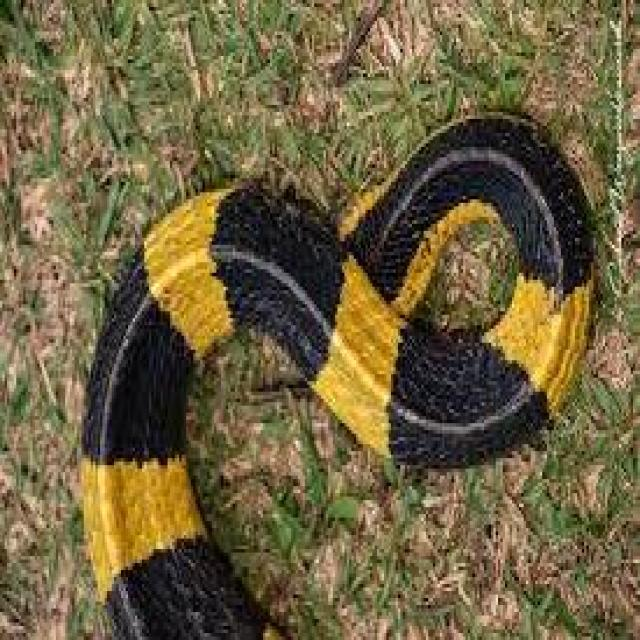Venomous: (283, 214, 406, 414)
